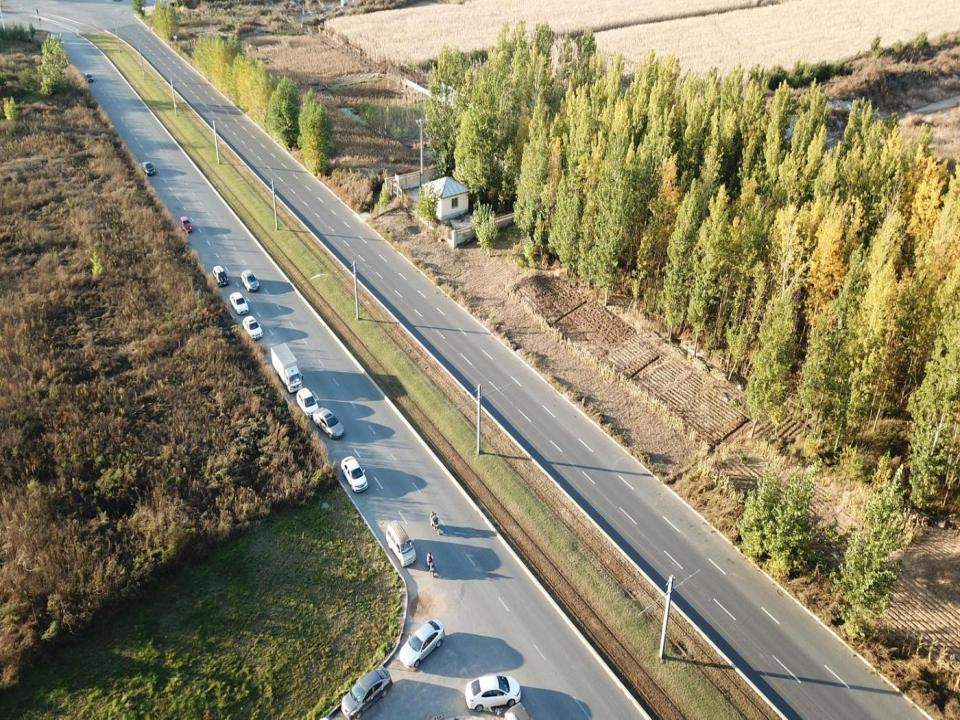car: (340, 664, 390, 718), (398, 618, 445, 670), (465, 672, 521, 714), (341, 453, 370, 493), (312, 406, 344, 438), (296, 387, 318, 421), (241, 270, 260, 294), (243, 316, 261, 340), (229, 292, 247, 316), (213, 264, 229, 289), (178, 216, 192, 233), (141, 162, 155, 176), (83, 71, 93, 85)
truck: (270, 342, 302, 396)
van: (386, 520, 417, 568)
